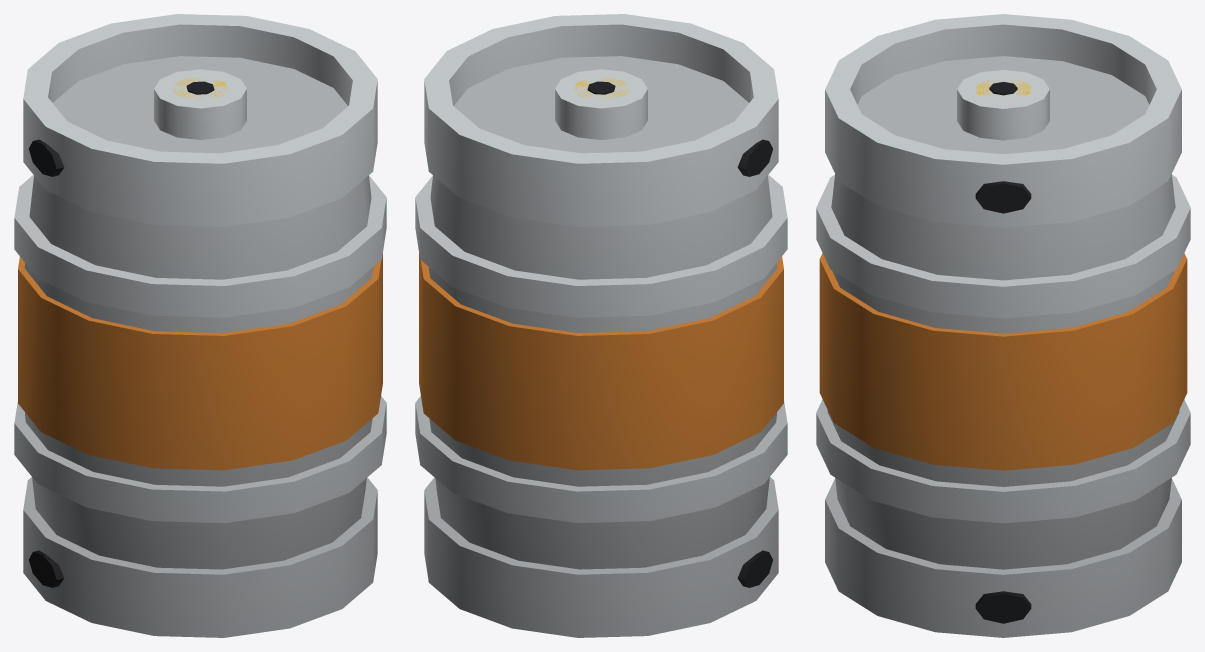
The model's file is SM_Keg_Half_01.glb.
3 views of the same model, side by side, from view 1: azimuth 30°, elevation 25°; view 2: azimuth 150°, elevation 25°; view 3: azimuth 270°, elevation 25° (orthographic).
Parts seen in each view (by area): view 1: SM_Keg_Half_01; view 2: SM_Keg_Half_01; view 3: SM_Keg_Half_01.
Boxes of the visible parts, x1,y1,x2,y2 form: SM_Keg_Half_01: [14, 14, 386, 637]; SM_Keg_Half_01: [415, 14, 787, 637]; SM_Keg_Half_01: [816, 14, 1190, 637].
Bounding box in the file's own units: 0.4305 × 0.602 × 0.4305.
1 material, 1 textured.
